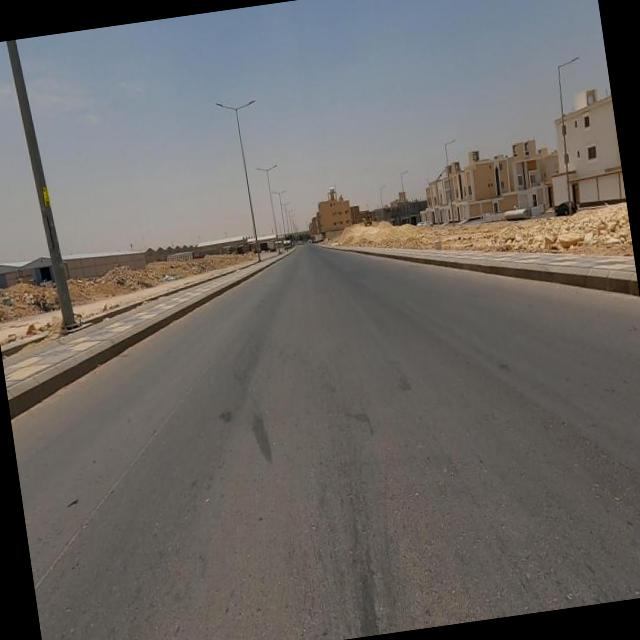debris: (83, 242, 154, 314), (135, 239, 197, 309), (0, 269, 49, 323), (28, 279, 66, 326), (0, 269, 30, 328)
